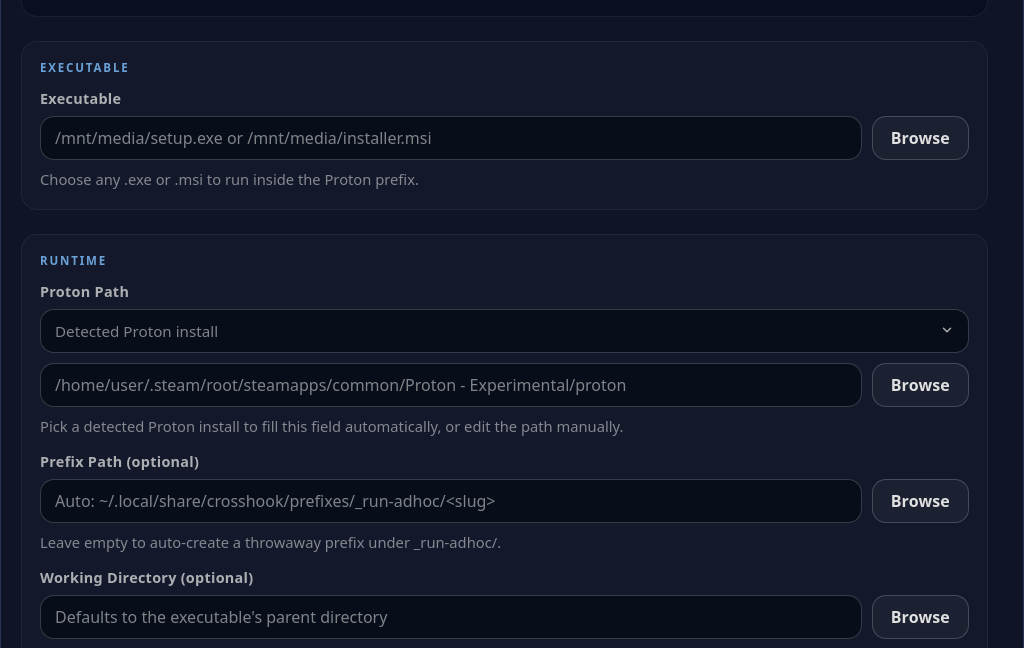
Test case: RunExecutablePanel › enables Cancel and Stop for the window's earlier run after a busy start
The width and height of the screenshot is (1024, 648).
In the field with placeholder "/mnt/media/setup.exe or /mnt/media/installer.msi": (451, 138) [40,116,862,160], type "/mock/games/synthetic-quest/setup.exe"
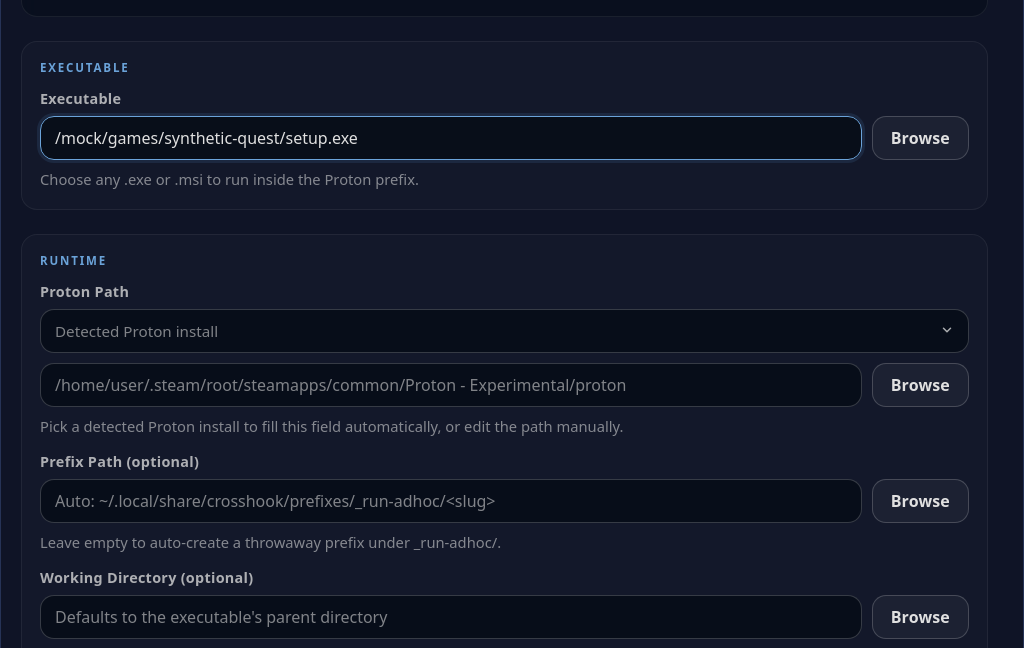
In the field with placeholder "steamapps/common/Proton - Experimental/proton": (451, 385) [40,363,862,407], type "/mock/proton/GE-Proton/proton"
(page scrolled)
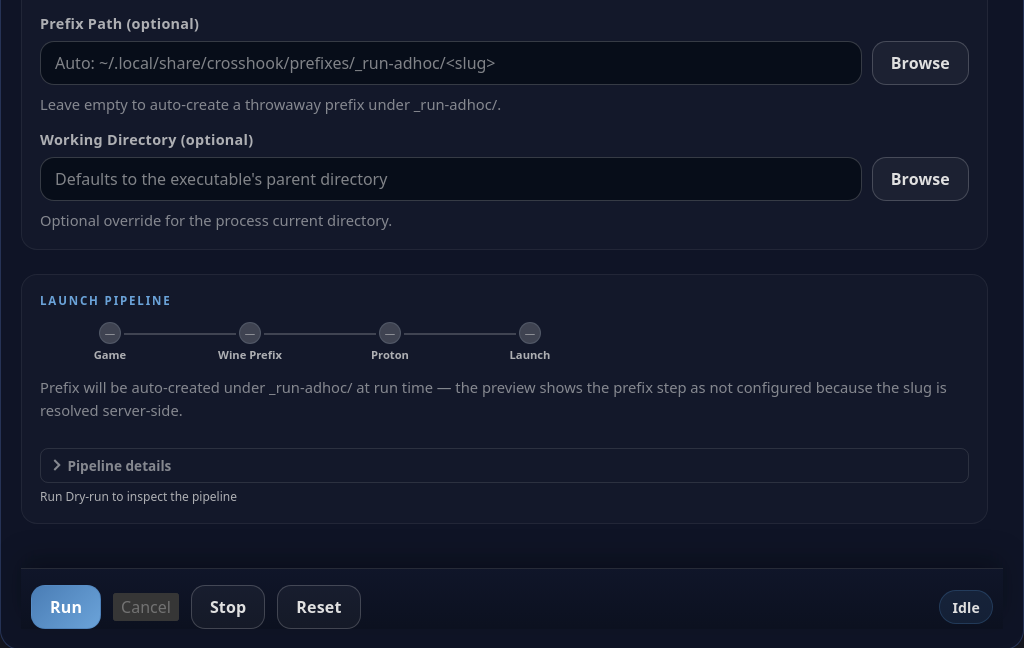
Click the button "Run": (66, 608) [31,586,101,630]
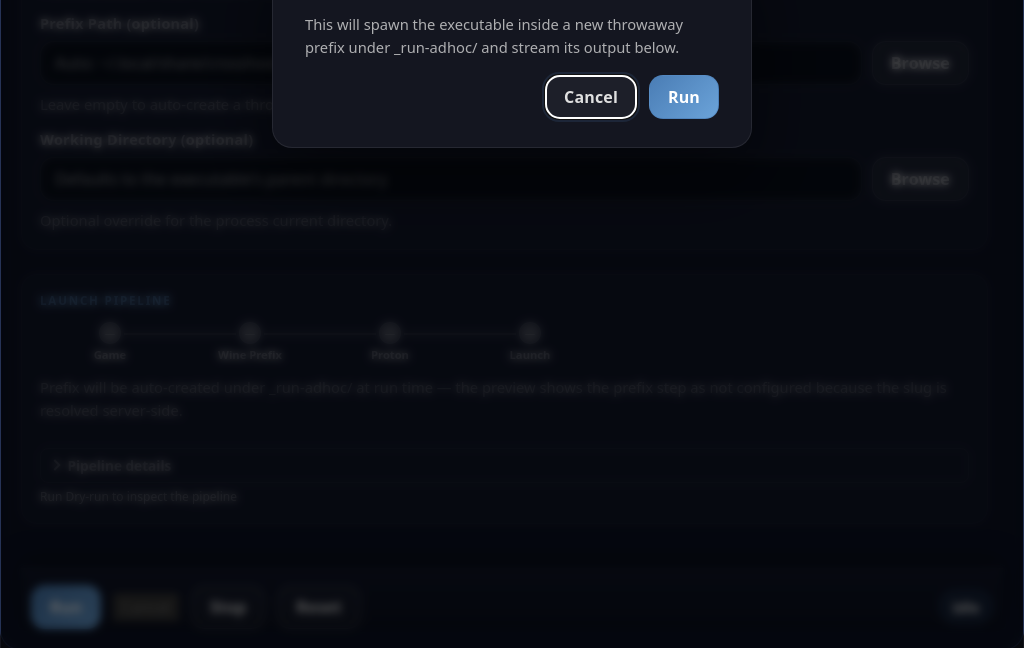
Click the button "Run": (684, 96) [649,74,719,118]
(page scrolled)
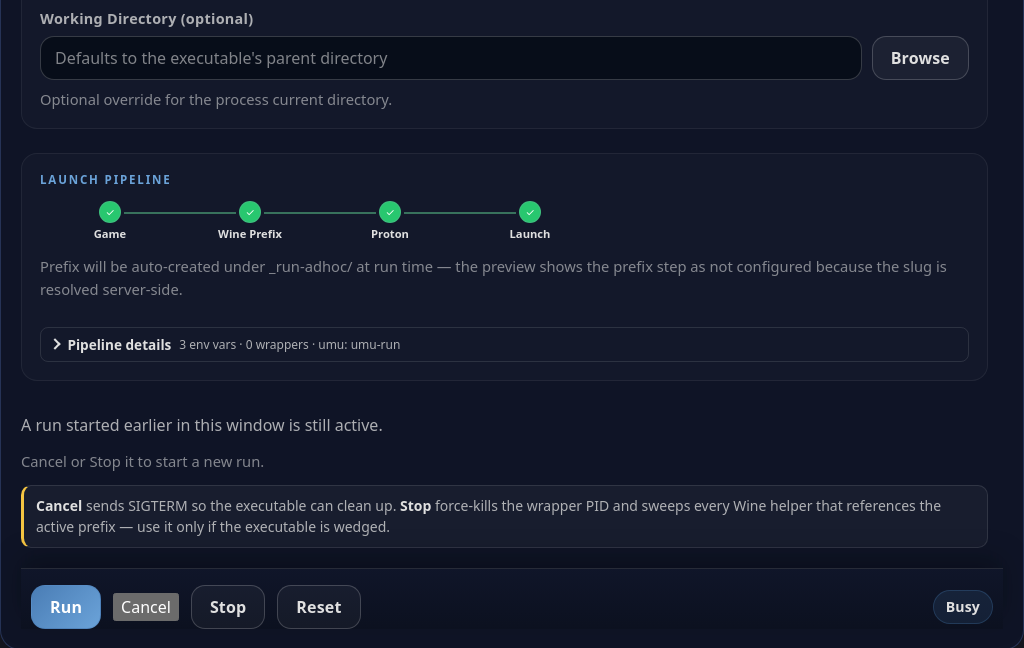
Expected: the text "A run started earlier in this window is still active." is shown, [21,414,383,436]
Expected: the button "Cancel" is enabled
Expected: the button "Stop" is enabled, [191,585,265,629]
Click the button "Cancel": (146, 607) [113,593,179,621]
(page scrolled)
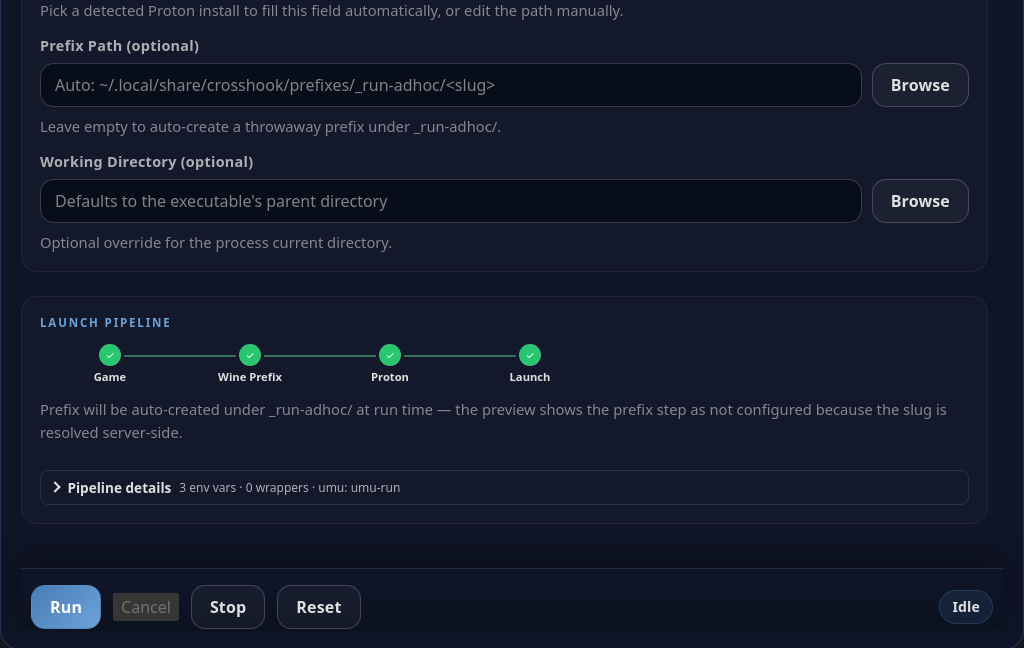
Expected: the button "Run" is enabled, [31,585,101,629]
Expected: the button "Cancel" is disabled, [113,593,179,621]
